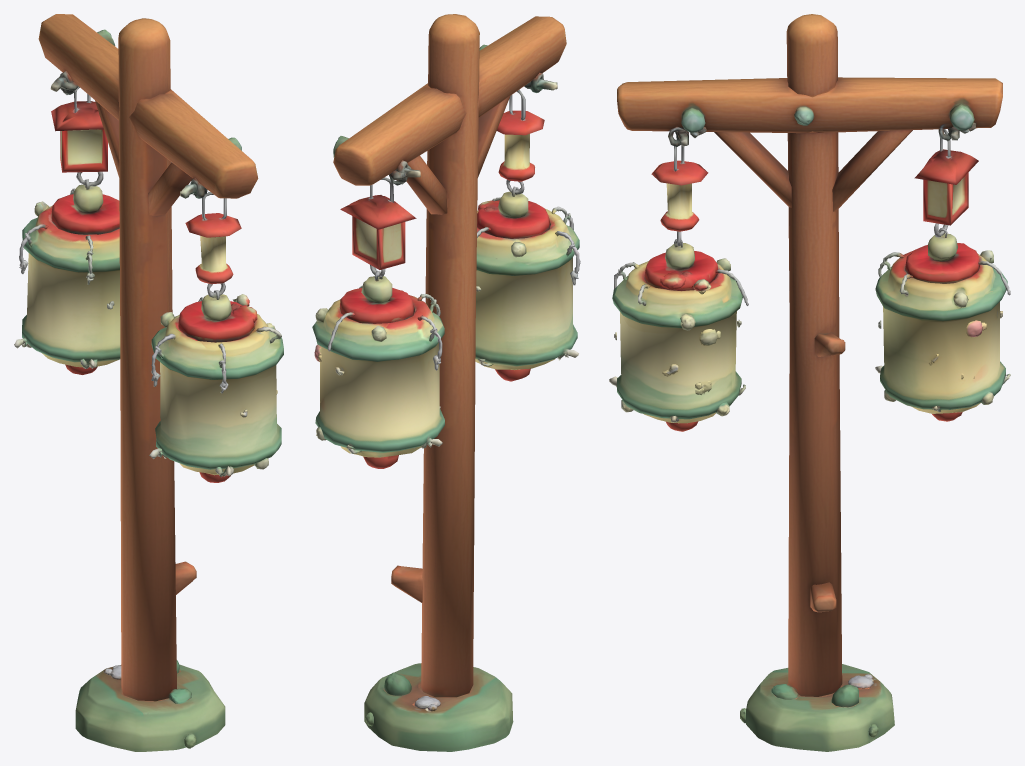
File: pole.glb
The picture shows the model from 3 angles, left to right: view 1: azimuth 30°, elevation 25°; view 2: azimuth 150°, elevation 25°; view 3: azimuth 270°, elevation 25°; orthographic projection.
Parts seen in each view (by area): view 1: tripo_node_678f30ee-81b4-4c91-aef4-a1ac84337eae; view 2: tripo_node_678f30ee-81b4-4c91-aef4-a1ac84337eae; view 3: tripo_node_678f30ee-81b4-4c91-aef4-a1ac84337eae.
Boxes of the visible parts, x1,y1,x2,y2 form: tripo_node_678f30ee-81b4-4c91-aef4-a1ac84337eae: [14, 14, 283, 751]; tripo_node_678f30ee-81b4-4c91-aef4-a1ac84337eae: [312, 14, 580, 751]; tripo_node_678f30ee-81b4-4c91-aef4-a1ac84337eae: [609, 14, 1010, 751].
Size of the model in its own units: 0.2012 by 0.998 by 0.5215.
Materials: 1 (1 with a texture image).
